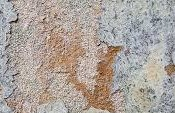Corrosion: (1, 1, 125, 113), (163, 63, 175, 78)
